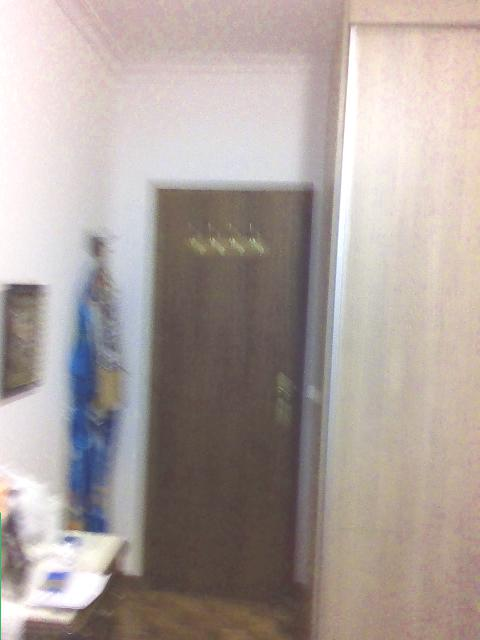closed_door: (140, 187, 314, 605)
